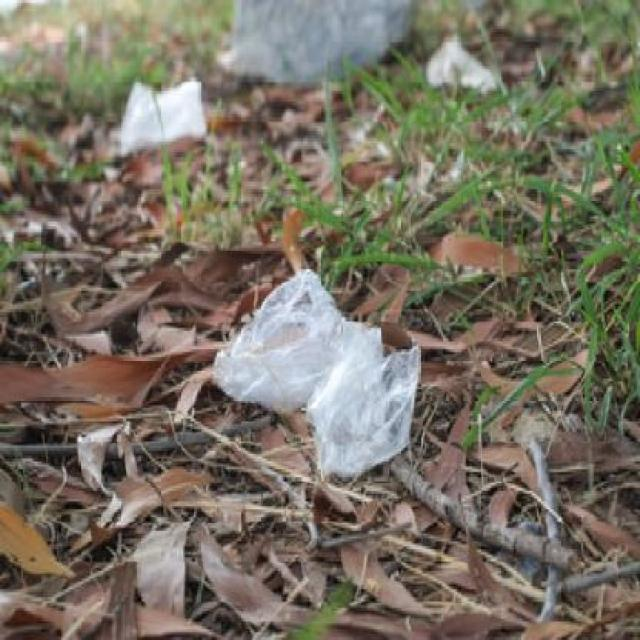plastic bag: (209, 252, 430, 492)
